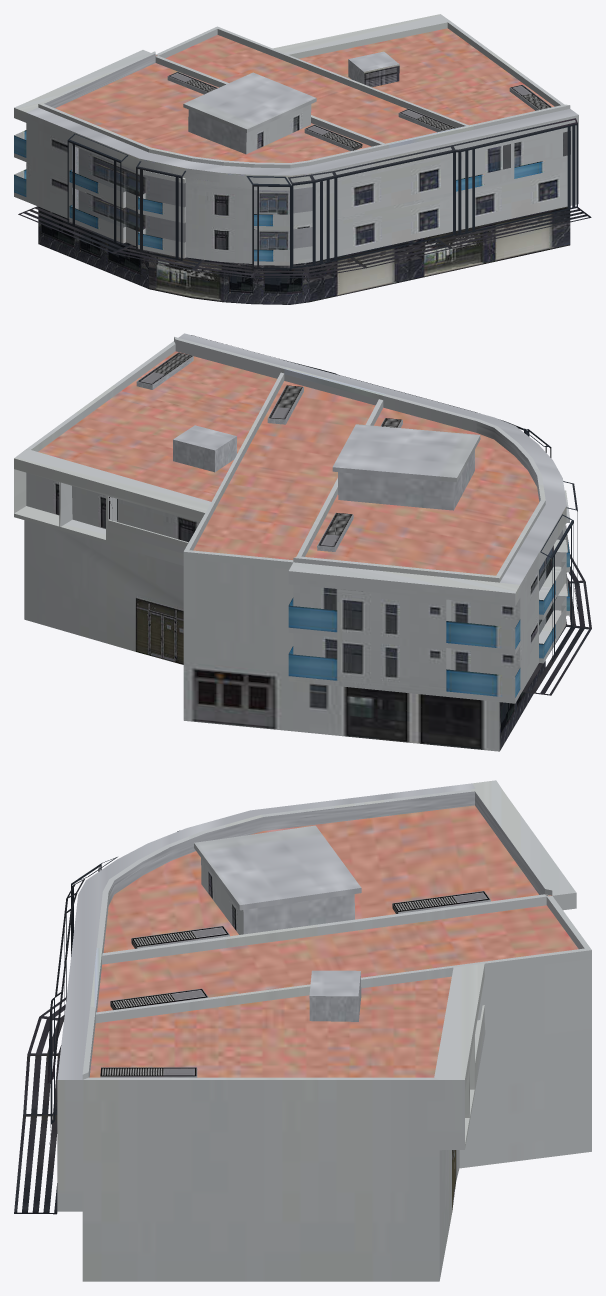
3 views of the same model, one above another, from view 1: azimuth 30°, elevation 25°; view 2: azimuth 150°, elevation 25°; view 3: azimuth 270°, elevation 25° (orthographic). The views are drawn at different scales.
Visible parts, largest first — view 1: 5b20e668b1017c47d4b20170; view 2: 5b20e668b1017c47d4b20170; view 3: 5b20e668b1017c47d4b20170.
Part boxes in pixels (x1,y1,x2,y2): 5b20e668b1017c47d4b20170: (14,14,591,304); 5b20e668b1017c47d4b20170: (14,333,591,751); 5b20e668b1017c47d4b20170: (14,780,591,1281).
Bounding box in the file's own units: 40.03 × 14.17 × 31.65.
Materials: 1 (1 with a texture image).
